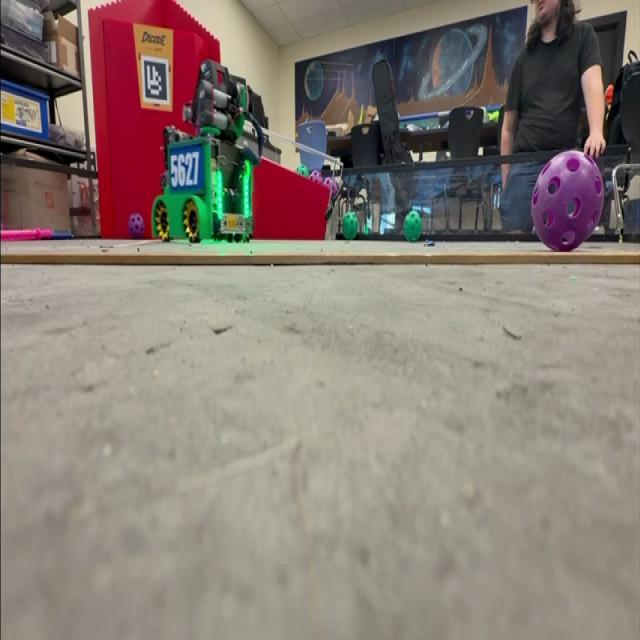artifact_green: (404, 211, 421, 242), (342, 212, 358, 239), (297, 164, 309, 177), (363, 226, 370, 234)
artifact_purple: (532, 151, 604, 251), (129, 214, 145, 238), (324, 176, 339, 198), (310, 171, 323, 183)
